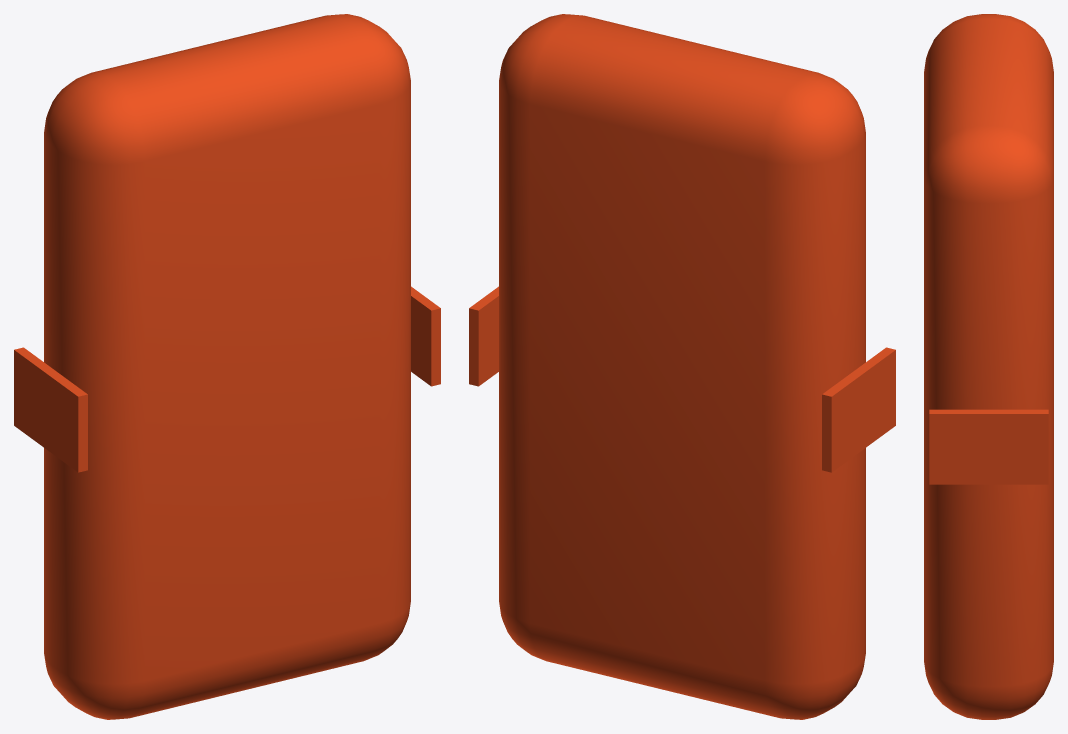
Rendered from item-snack_bag.glb.
3 renders of one model, left to right at view 1: azimuth 30°, elevation 25°; view 2: azimuth 150°, elevation 25°; view 3: azimuth 270°, elevation 25°, orthographic. The views are drawn at different scales.
Parts seen in each view (by area): view 1: body, seal, seal.001; view 2: body, seal, seal.001; view 3: body, seal.001.
Part boxes in pixels (x1,y1,x2,y2): body: (44, 14, 410, 719); seal: (14, 347, 87, 472); seal.001: (411, 286, 440, 386); body: (499, 14, 865, 719); seal: (822, 347, 895, 472); seal.001: (469, 286, 498, 386); body: (924, 14, 1053, 719); seal.001: (929, 409, 1048, 484).
Bounding box in the file's own units: 0.15 × 0.25 × 0.05.
